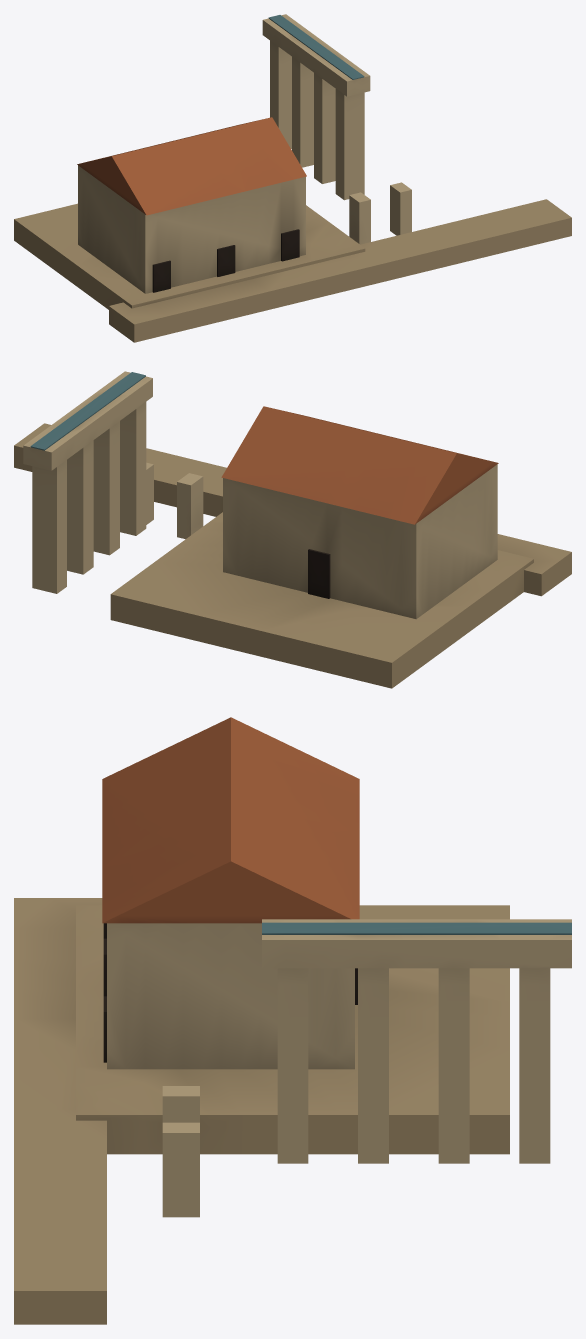
File: albolafia-1600.glb
3 renders of one model, top to bottom at view 1: azimuth 30°, elevation 25°; view 2: azimuth 150°, elevation 25°; view 3: azimuth 270°, elevation 25°, orthographic. The views are drawn at different scales.
Parts seen in each view (by area): view 1: p1_mill, p0_weir, p2_wheel; view 2: p1_mill, p0_weir, p2_wheel; view 3: p1_mill, p0_weir, p2_wheel.
Part boxes in pixels (x1=…): p1_mill: x1=77, y1=14, x2=370, y2=293; p0_weir: x1=14, y1=199, x2=571, y2=342; p2_wheel: x1=349, y1=182, x2=411, y2=244; p1_mill: x1=23, y1=371, x2=498, y2=619; p0_weir: x1=14, y1=423, x2=571, y2=688; p2_wheel: x1=146, y1=462, x2=203, y2=539; p1_mill: x1=102, y1=717, x2=571, y2=1163; p0_weir: x1=14, y1=898, x2=509, y2=1324; p2_wheel: x1=162, y1=1086, x2=199, y2=1217.
Bounding box in the file's own units: 30 × 9.46 × 18.
